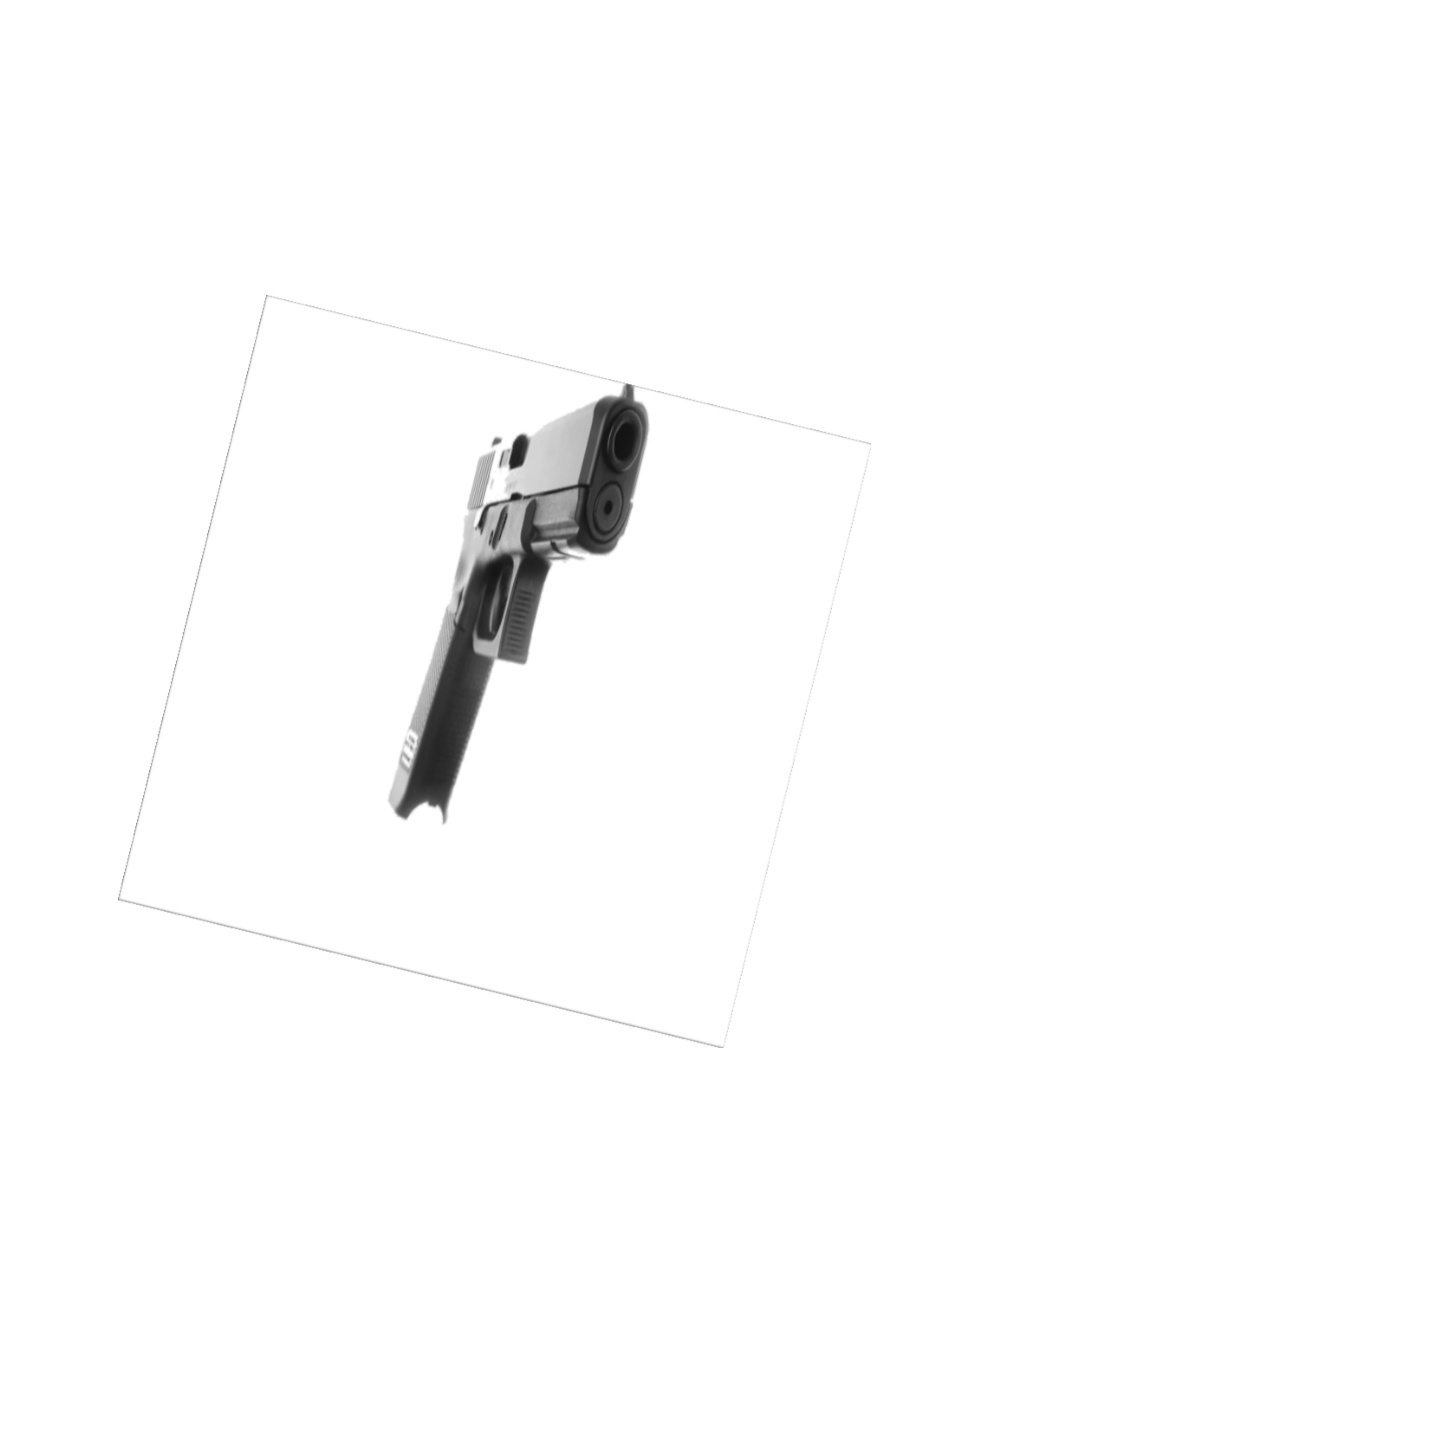gun: (378, 379, 662, 824)
